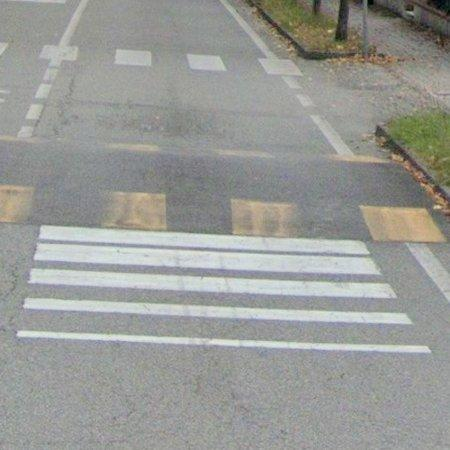crosswalks: (0, 186, 450, 241)
